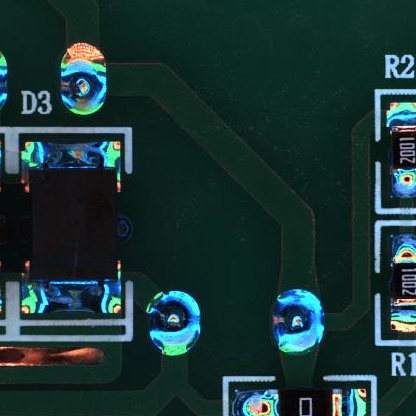spot: (146, 289, 202, 356), (270, 289, 326, 355), (59, 43, 107, 114)
